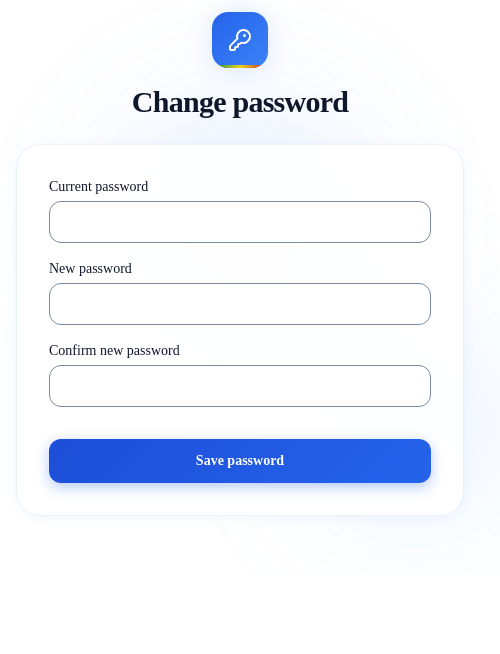
Test case: Change password page › shows the server message inline when the current password is wrong
The width and height of the screenshot is (500, 654).
Type "Wrong-passw0rd" into the password field labelled "Current password" at {"x": 240, "y": 222}, box [49,201,431,243]
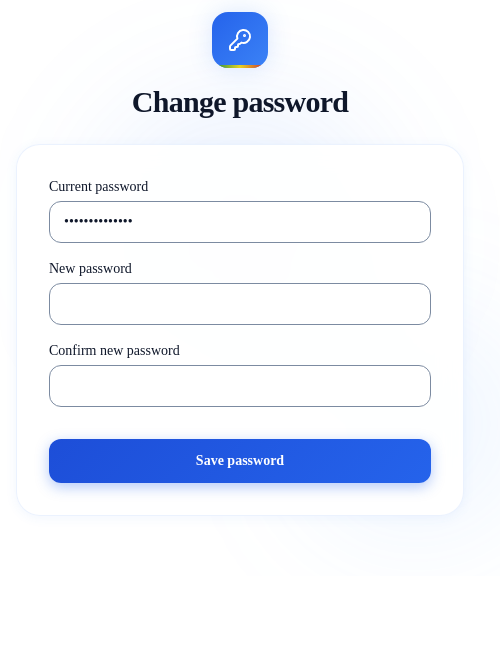
Type "Another-passw0rd" into the password field labelled "New password" at {"x": 240, "y": 304}, box [49,283,431,325]
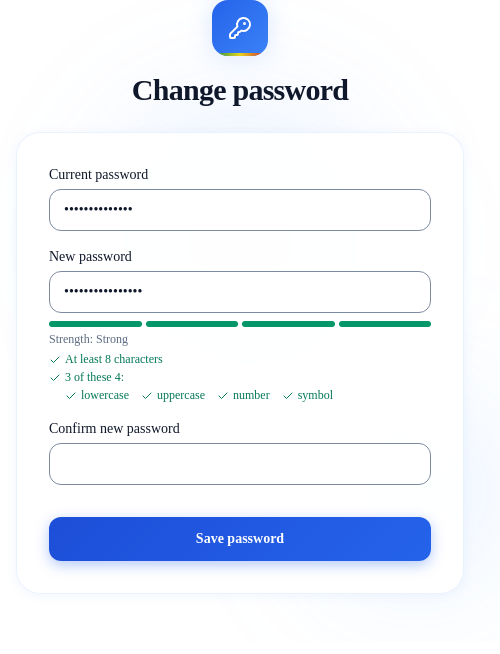
Type "Another-passw0rd" into the password field labelled "Confirm new password" at {"x": 240, "y": 464}, box [49,443,431,485]
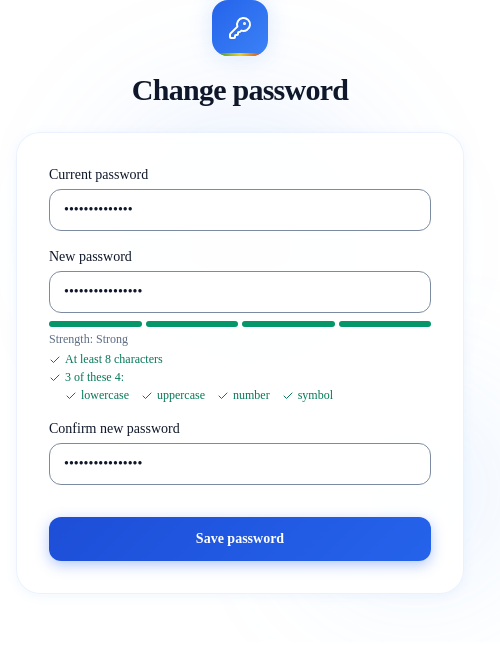
Click the button "Save password" at {"x": 240, "y": 539}, box [49,517,431,561]
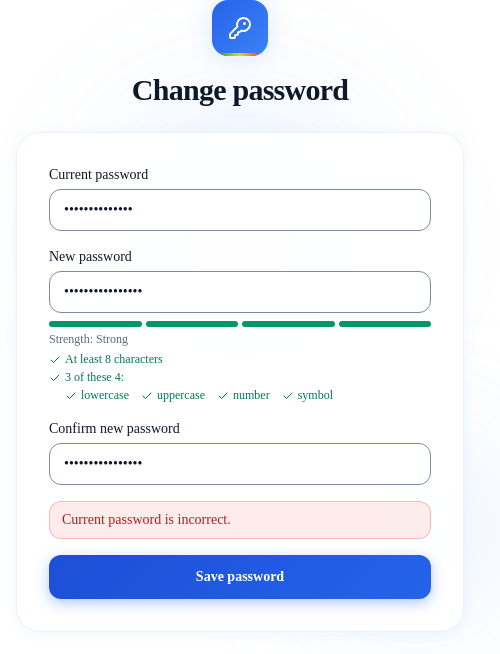
Check: the text "Current password is incorrect." is shown, box [49,501,431,539]
